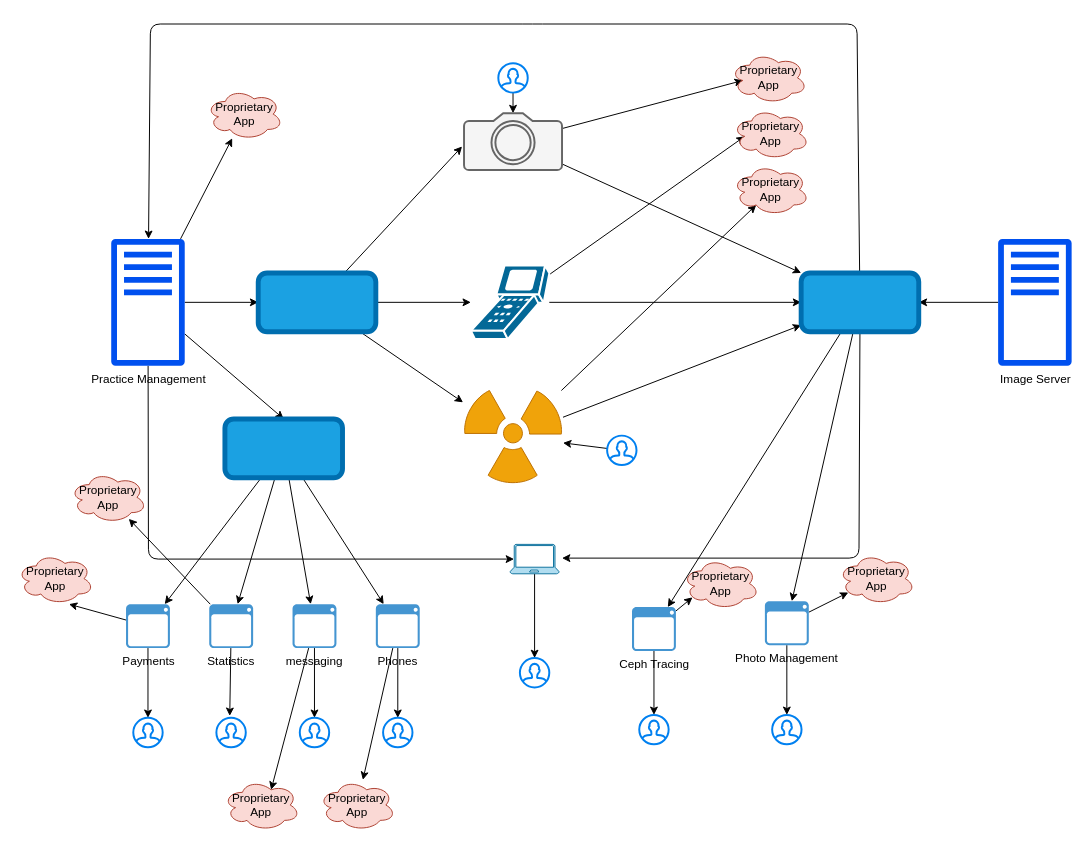
This 1089x848 diagram has some shape labels left out. Each missing label, with the centre of its shape:
"Camera" belongs at point (513, 141).
"CCBCT" belongs at point (512, 436).
"DICOM" belongs at point (859, 302).
"DICOM MWL" belongs at point (316, 302).
"HL7" belongs at point (283, 448).
"Intraoral Scanner" belongs at point (509, 302).
"Workstation" belongs at point (534, 558).
